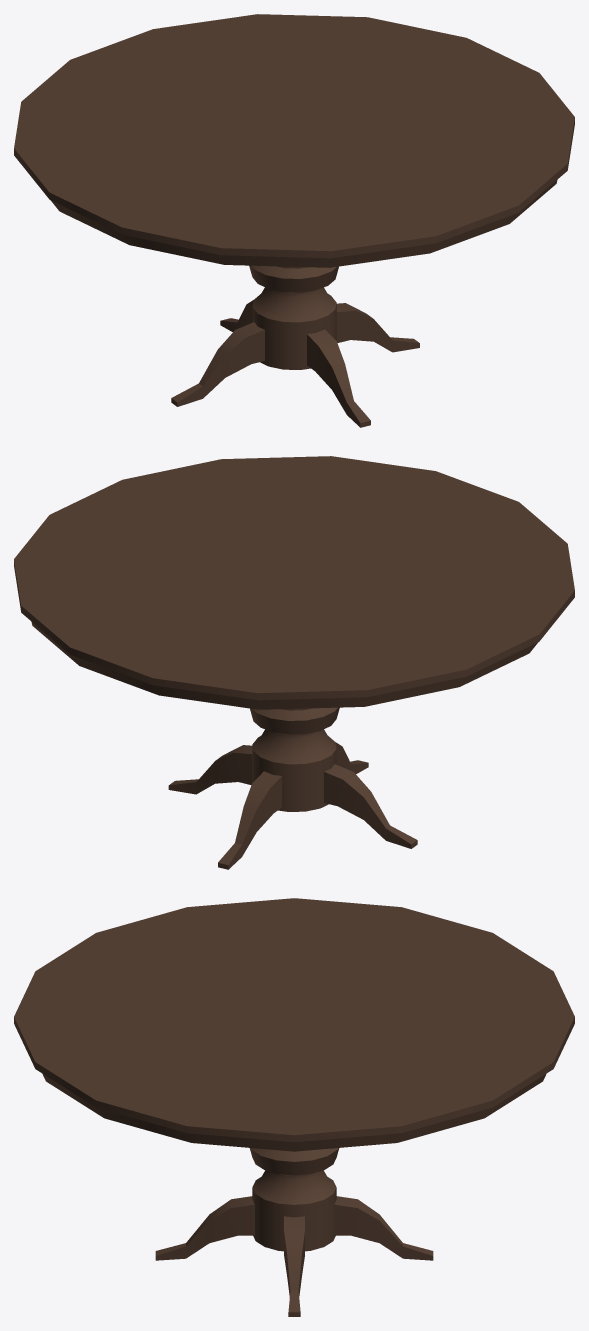
File: S_Table.fbx
The picture shows the model from 3 angles, top to bottom: view 1: azimuth 30°, elevation 25°; view 2: azimuth 150°, elevation 25°; view 3: azimuth 270°, elevation 25°; orthographic projection.
Visible parts, largest first — view 1: S_Table; view 2: S_Table; view 3: S_Table.
Boxes of the visible parts, x1,y1,x2,y2 form: S_Table: (14, 14, 574, 427); S_Table: (14, 456, 574, 869); S_Table: (14, 898, 574, 1316).
Bounding box in the file's own units: 196 × 93.06 × 196.
